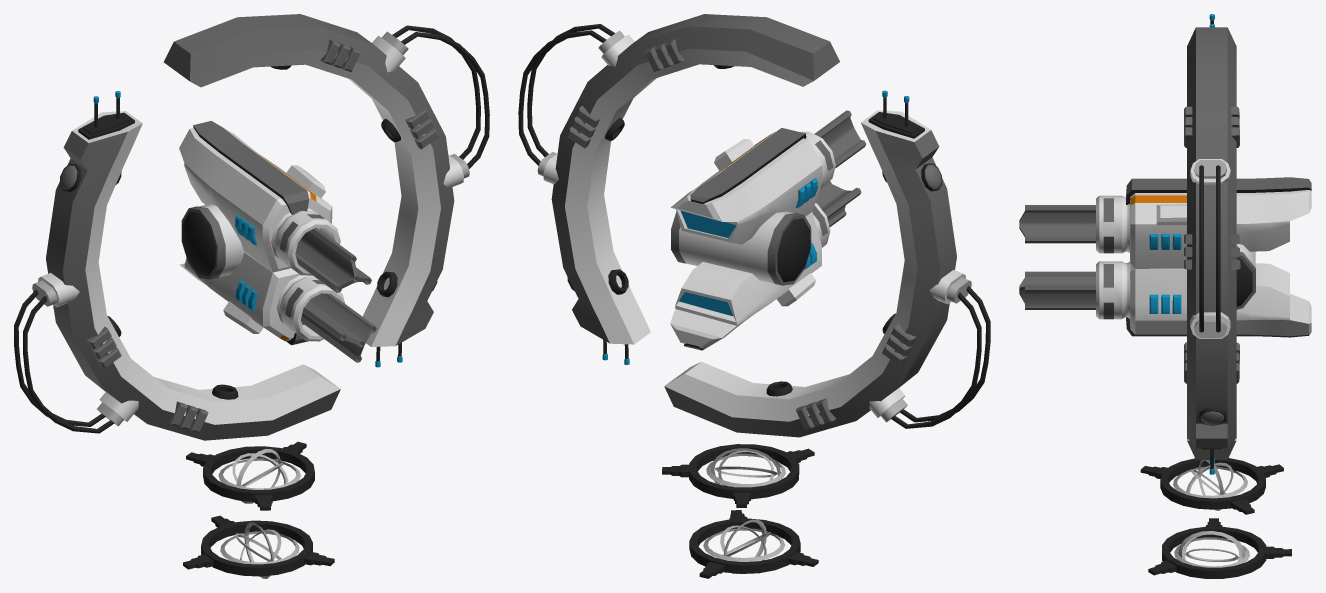
The model's file is tower_gatling_upgrade2_asset.fbx.
The picture shows the model from 3 angles, left to right: view 1: azimuth 30°, elevation 25°; view 2: azimuth 150°, elevation 25°; view 3: azimuth 270°, elevation 25°; orthographic projection. The views are drawn at different scales.
Parts seen in each view (by area): view 1: gatling2_top, gatling2_bottom, gatling_spinner_bottom, gatling_spinner_top; view 2: gatling2_top, gatling2_bottom, gatling_spinner_top, gatling_spinner_bottom; view 3: gatling2_top, gatling2_bottom, gatling_spinner_top, gatling_spinner_bottom.
Boxes of the visible parts, x1,y1,x2,y2 form: gatling2_top: [14, 14, 489, 440]; gatling2_bottom: [183, 441, 334, 578]; gatling_spinner_bottom: [301, 293, 376, 362]; gatling_spinner_top: [295, 227, 371, 292]; gatling2_top: [518, 14, 990, 437]; gatling2_bottom: [662, 444, 818, 578]; gatling_spinner_top: [814, 110, 866, 168]; gatling_spinner_bottom: [815, 181, 861, 226]; gatling2_top: [1096, 14, 1311, 474]; gatling2_bottom: [1140, 458, 1291, 578]; gatling_spinner_top: [1019, 205, 1095, 243]; gatling_spinner_bottom: [1019, 271, 1095, 309].
Size of the model in its own units: 251 by 285 by 144.
